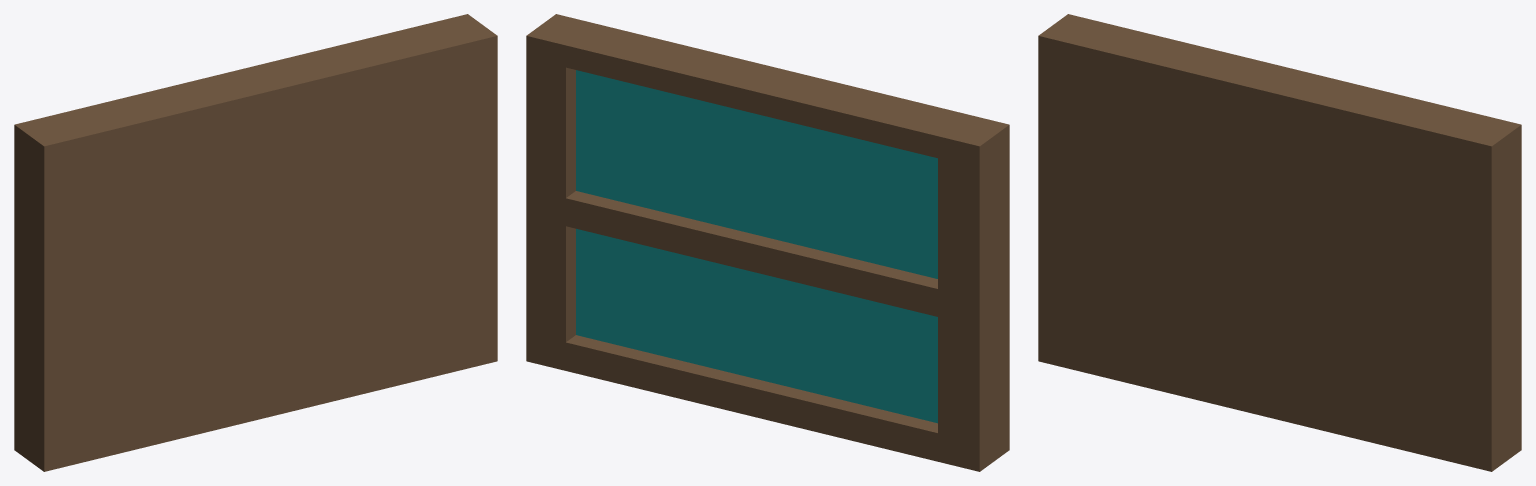
Rendered from TH_Window.fbx.
The picture shows the model from 3 angles, left to right: view 1: azimuth 30°, elevation 25°; view 2: azimuth 150°, elevation 25°; view 3: azimuth 330°, elevation 25°; orthographic projection.
Parts seen in each view (by area): view 1: pasted__Town_Hall_01_pasted__polySurface701; view 2: pasted__Town_Hall_01_pasted__polySurface701; view 3: pasted__Town_Hall_01_pasted__polySurface701.
Boxes of the visible parts, x1,y1,x2,y2 form: pasted__Town_Hall_01_pasted__polySurface701: (14, 14, 497, 471); pasted__Town_Hall_01_pasted__polySurface701: (526, 14, 1009, 471); pasted__Town_Hall_01_pasted__polySurface701: (1038, 14, 1521, 471).
Size of the model in its own units: 3.72 by 2.55 by 0.4229.
